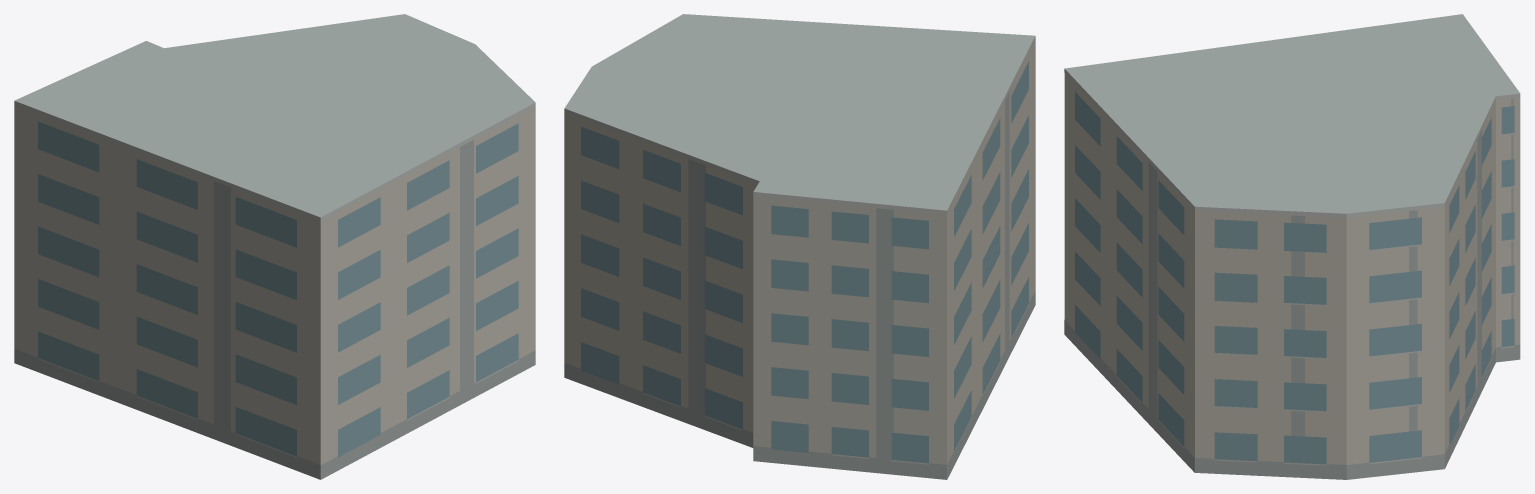
The model's file is survey-upis-32905879.glb.
3 renders of one model, left to right at view 1: azimuth 30°, elevation 25°; view 2: azimuth 150°, elevation 25°; view 3: azimuth 270°, elevation 25°, orthographic. The views are drawn at different scales.
Parts seen in each view (by area): view 1: survey-upis-32905879.tmp; view 2: survey-upis-32905879.tmp; view 3: survey-upis-32905879.tmp.
Part boxes in pixels (box(x1,y1,x2,y2)): survey-upis-32905879.tmp: box(14, 14, 535, 479); survey-upis-32905879.tmp: box(564, 14, 1035, 479); survey-upis-32905879.tmp: box(1064, 14, 1520, 479).
Bounding box in the file's own units: 24.56 × 15.25 × 23.69.
